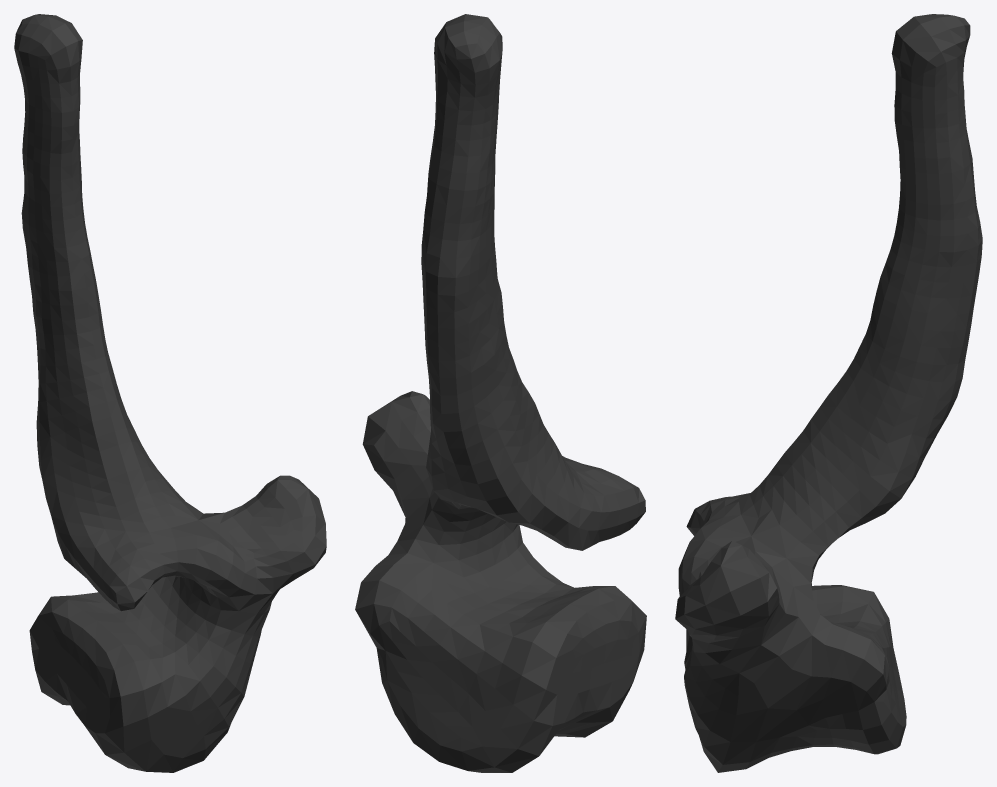
The picture shows the model from 3 angles, left to right: view 1: azimuth 30°, elevation 25°; view 2: azimuth 150°, elevation 25°; view 3: azimuth 270°, elevation 25°; orthographic projection. The views are drawn at different scales.
Parts seen in each view (by area): view 1: T4; view 2: T4; view 3: T4.
Boxes of the visible parts, x1,y1,x2,y2 form: T4: (14, 14, 326, 772); T4: (355, 14, 646, 772); T4: (675, 14, 982, 772).
Bounding box in the file's own units: 0.00666 × 0.0201 × 0.00762.
1 material, 1 textured.
